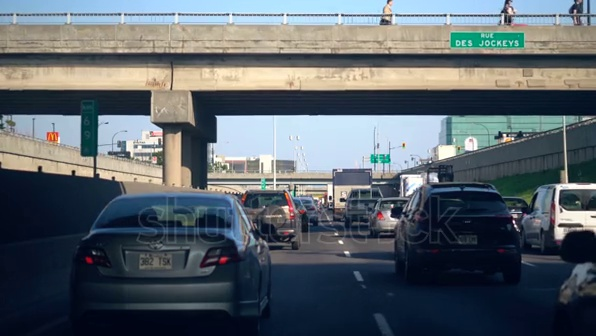licenseplate: (134, 249, 175, 274), (454, 227, 482, 247)
